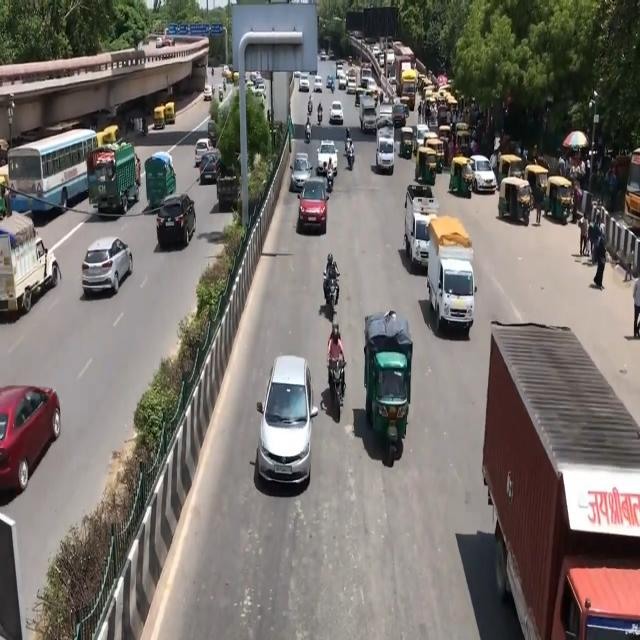Truck: (489, 314, 640, 640)
